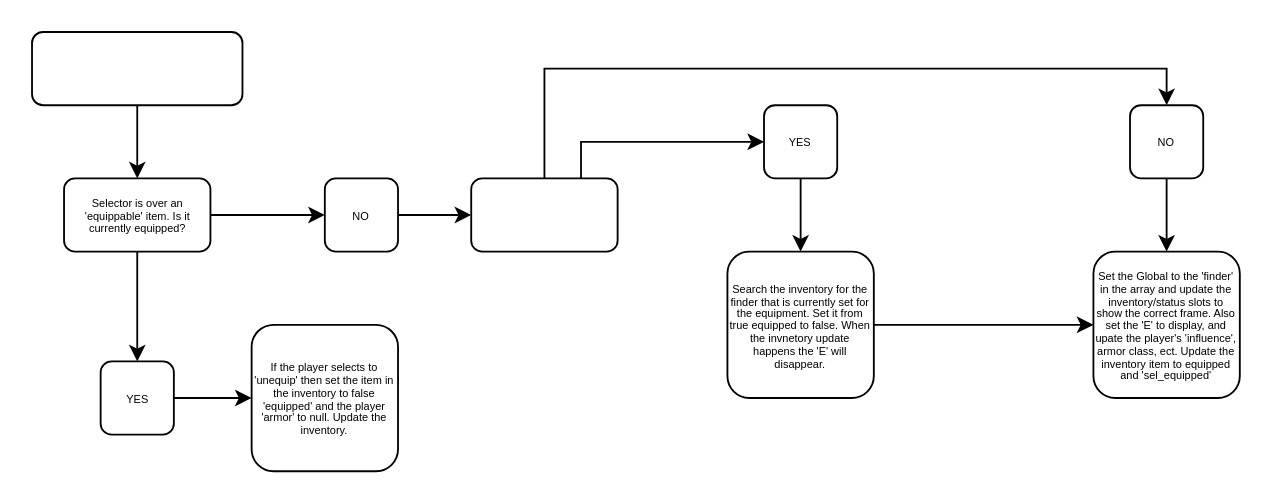
Some shapes in this 1272 by 503 pixel diagram are drawn without their labels. Here are the shapes that lost their labels. From the top down, the centre of each, then its label:
(x=136, y=67): EQUIP FUNCTION
(x=543, y=214): Is there already an item equipped in it's place?
